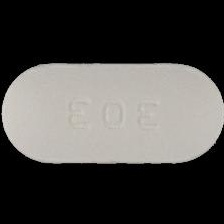68788-9701: (0, 0, 224, 224)
